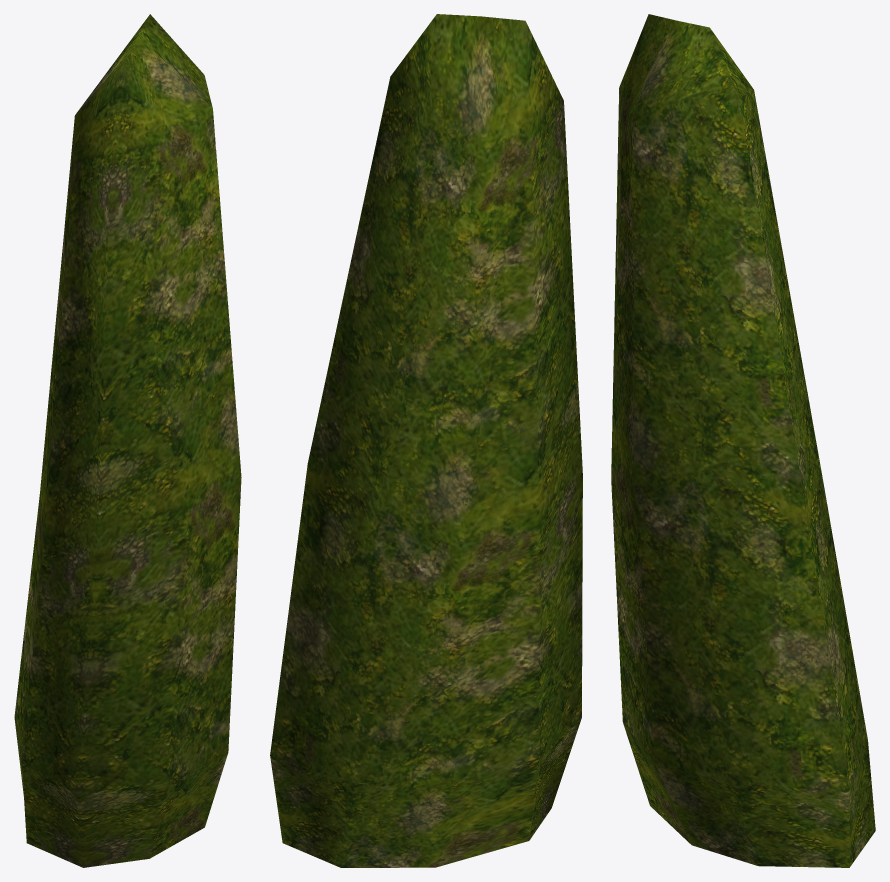
File: OVERHILL_A_01_ROCK207.fbx
3 views of the same model, side by side, from view 1: azimuth 30°, elevation 25°; view 2: azimuth 150°, elevation 25°; view 3: azimuth 270°, elevation 25° (orthographic). The views are drawn at different scales.
Parts seen in each view (by area): view 1: OVERHILL_A_01_ROCK207; view 2: OVERHILL_A_01_ROCK207; view 3: OVERHILL_A_01_ROCK207.
Boxes of the visible parts, left/top/right/bottom form: OVERHILL_A_01_ROCK207: left=14, top=14, right=241, bottom=867; OVERHILL_A_01_ROCK207: left=270, top=14, right=582, bottom=867; OVERHILL_A_01_ROCK207: left=611, top=14, right=875, bottom=867.
Size of the model in its own units: 17139 by 62137 by 18644.
1 material, 1 textured.
